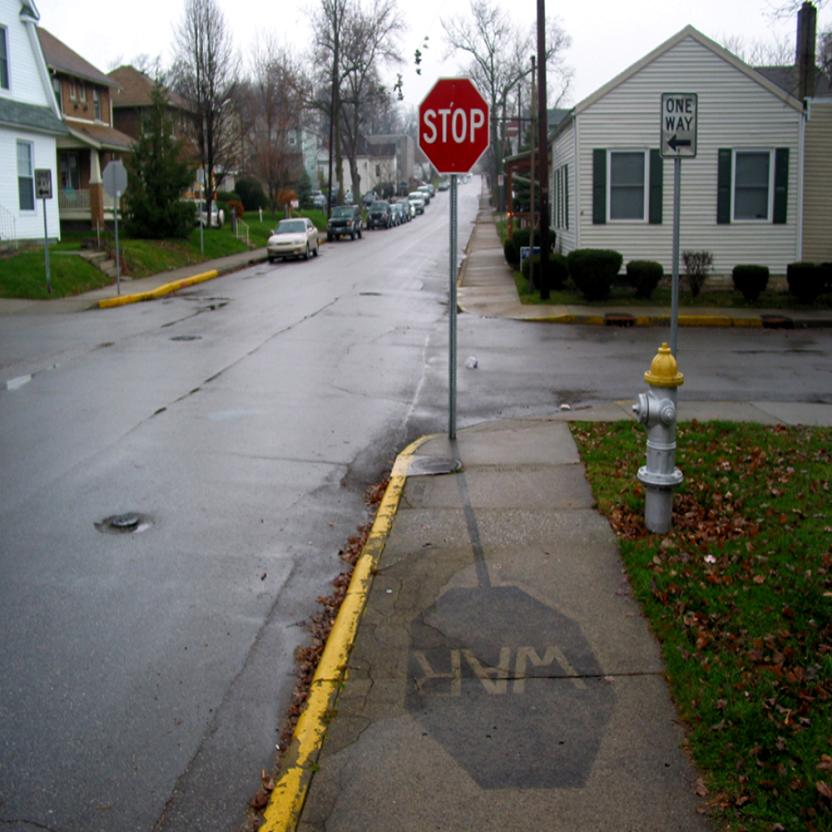Pole: (448, 174, 458, 440), (670, 160, 682, 345)
Sign: (418, 77, 490, 174)
